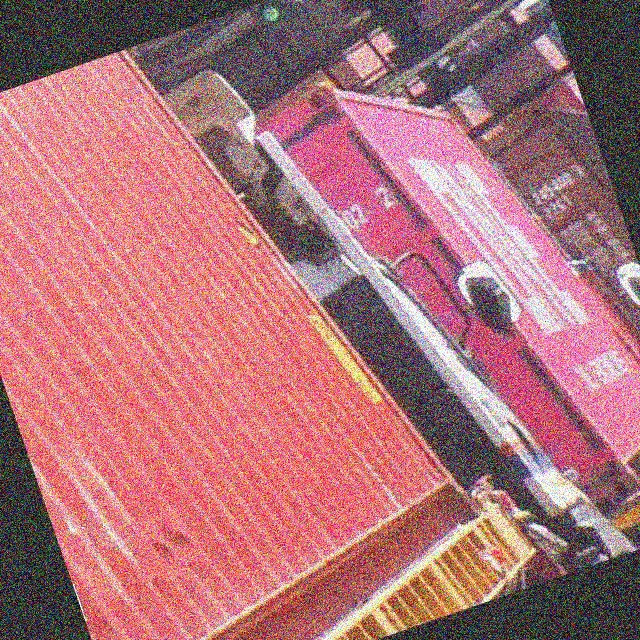Dent: (136, 499, 216, 582)
